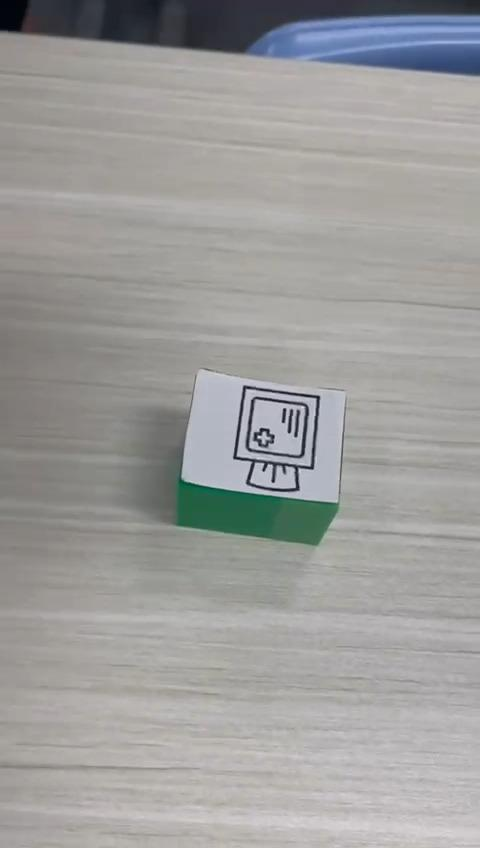Gauze: (174, 366, 348, 547)
